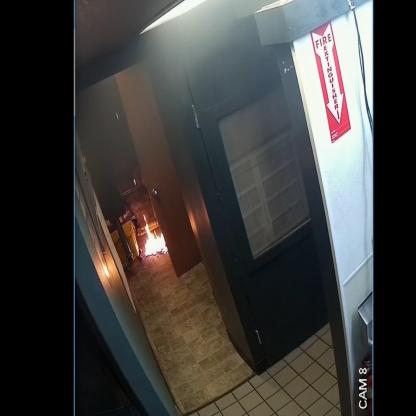fire: (143, 215, 168, 256)
